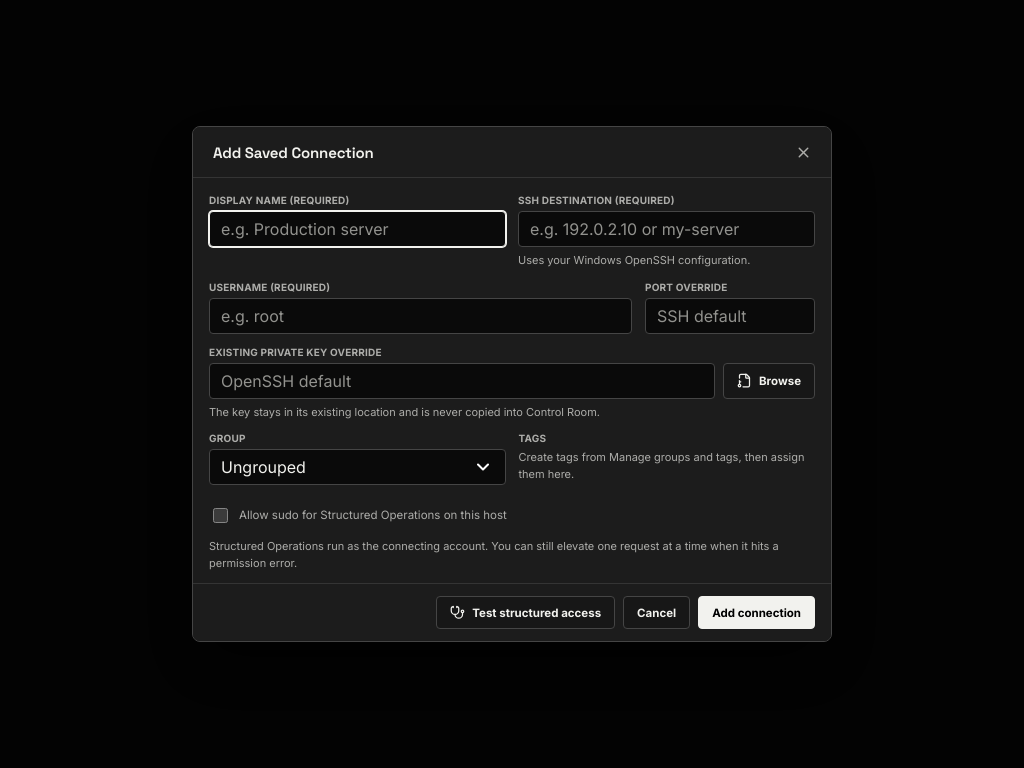
Test: ConnectionDialog tags › uses the app validation message instead of a browser-language popup
Click the button "Add connection": [757, 612] box [698,596,815,629]
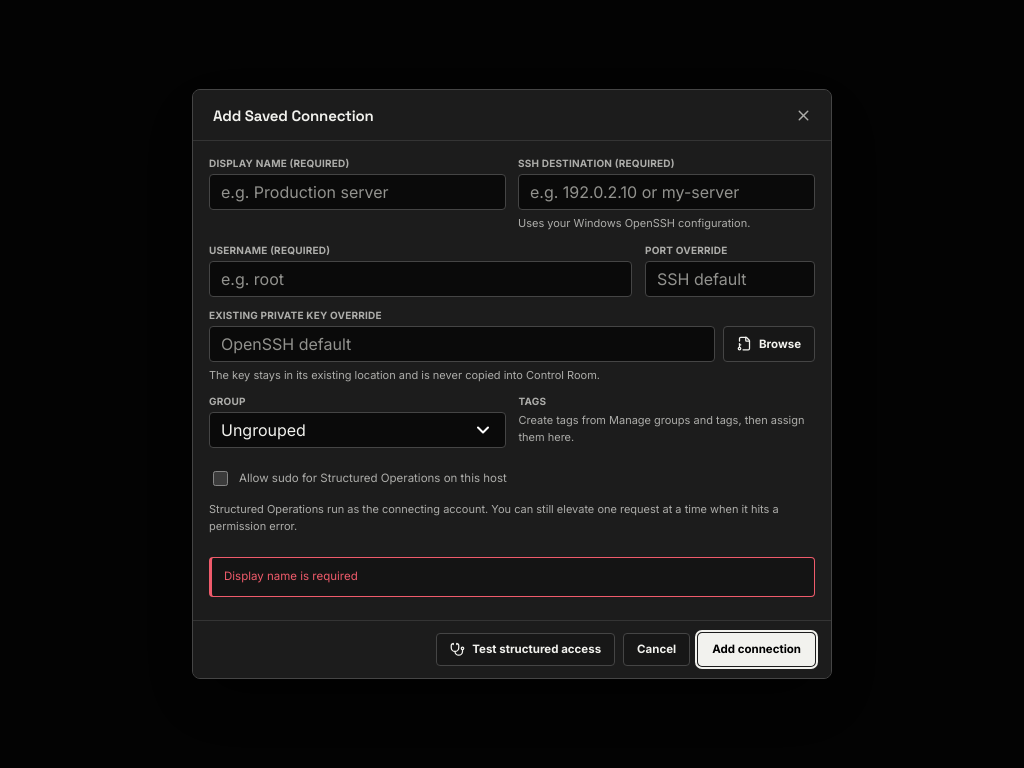
Check: the text "Display name is required" is shown, box [209,557,815,597]
